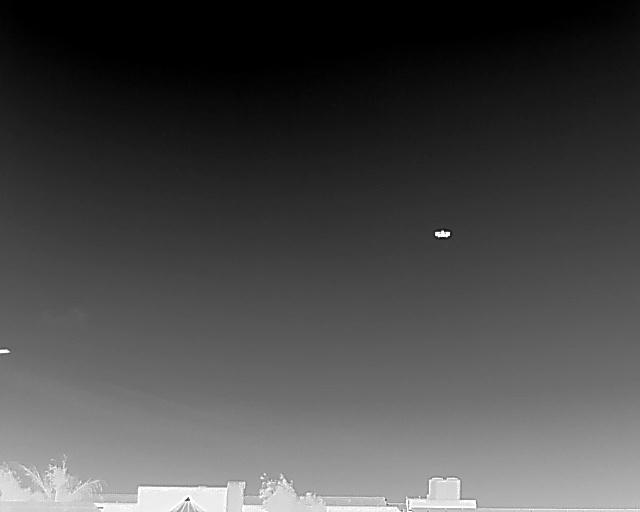fpv-drone: (434, 230, 450, 238)
